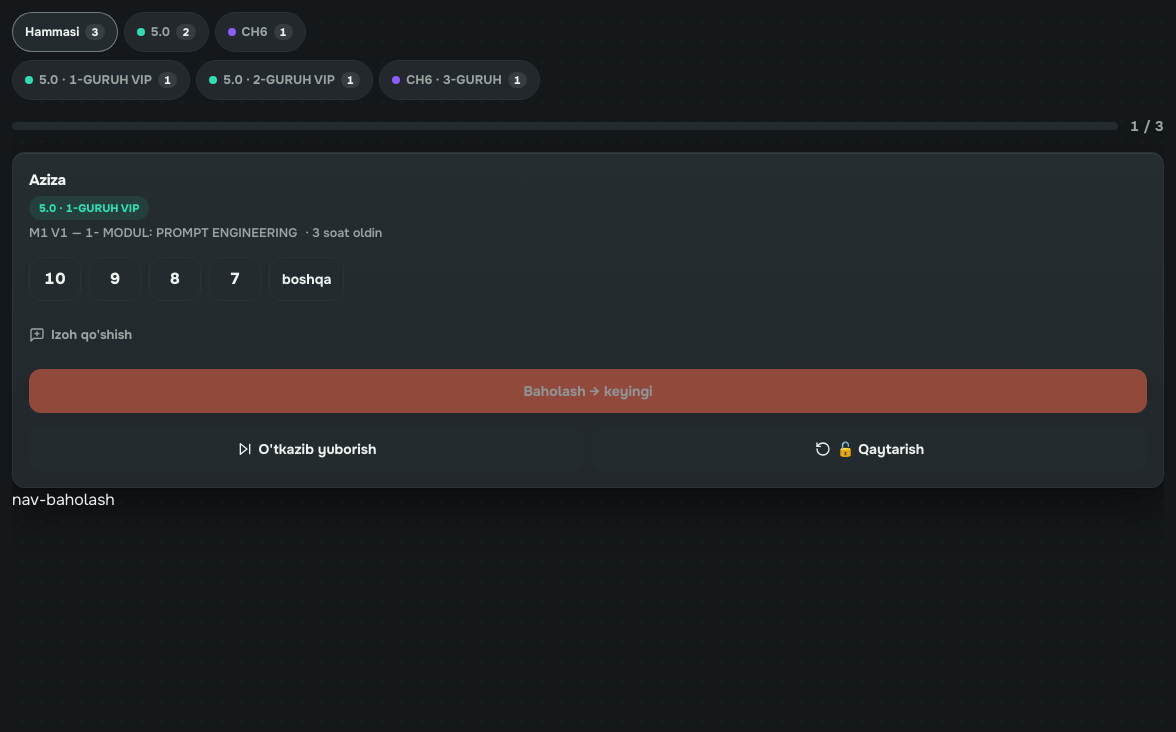
TeacherGrade course + group filter › 'Ortga' tapped while the NEXT grade is being written re-opens the right card and keeps its score (TUI-6)
Check: the text "Aziza" is shown, box x1=29 y1=170 x2=66 y2=190
Click the button "7" at (235, 279), box x1=209 y1=257 x2=261 y2=301
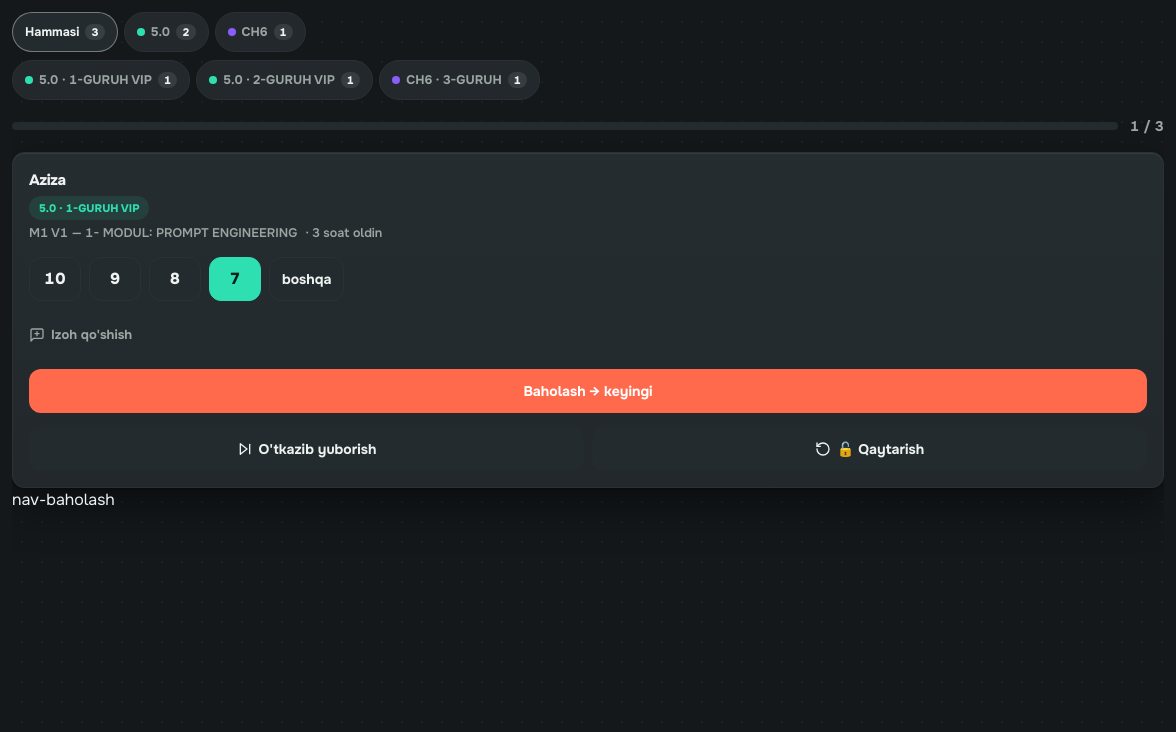
Click the button "Baholash → keyingi" at (588, 391), box x1=29 y1=369 x2=1147 y2=413
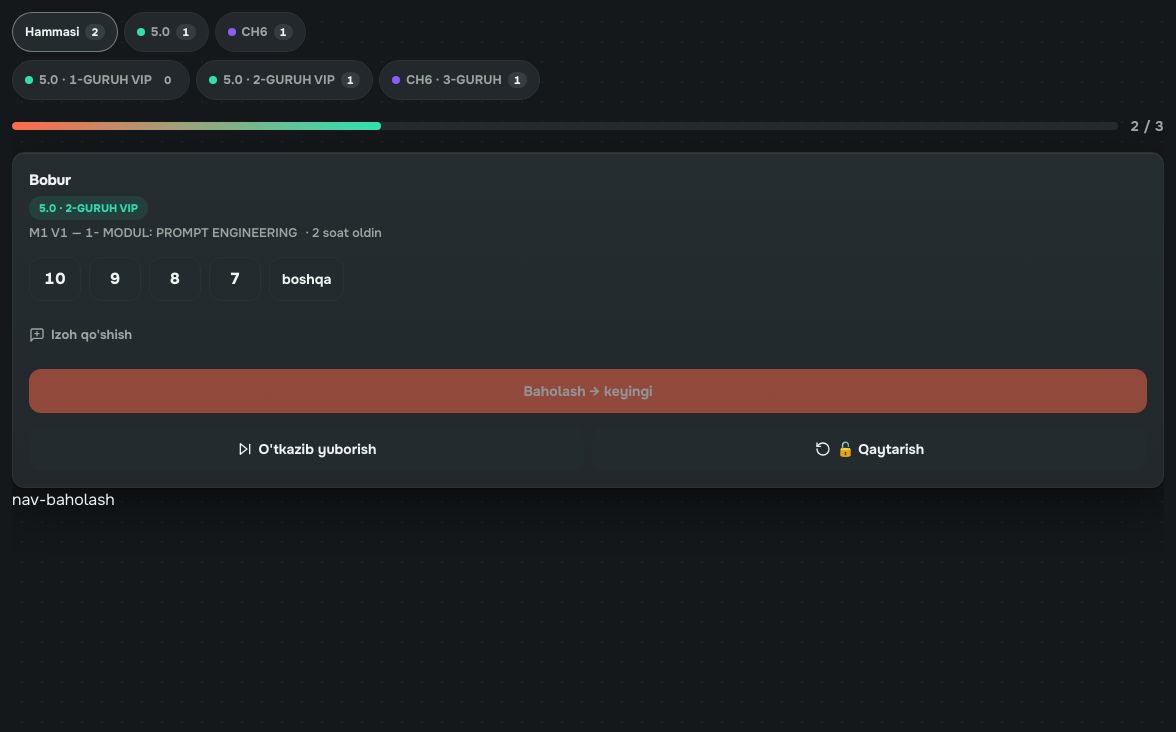
Check: the text "Bobur" is shown, box x1=29 y1=170 x2=71 y2=190
Click the button "10" at (55, 279), box x1=29 y1=257 x2=81 y2=301
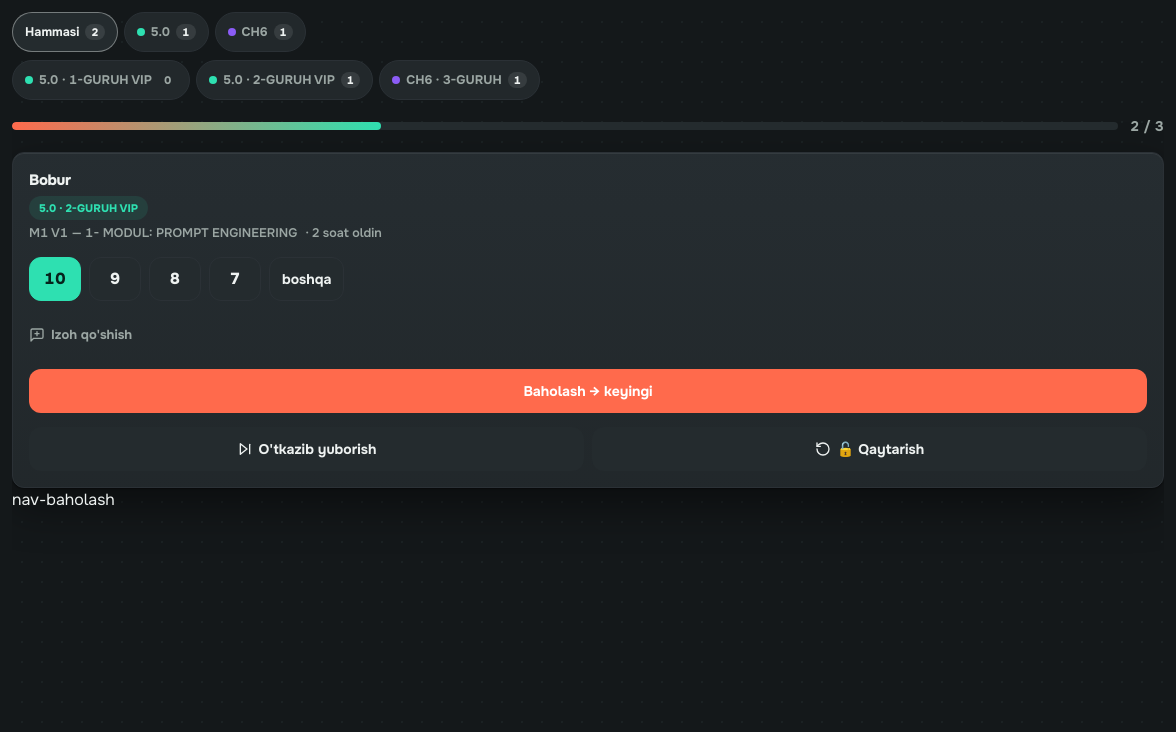
Click the button "Baholash → keyingi" at (588, 391), box x1=29 y1=369 x2=1147 y2=413
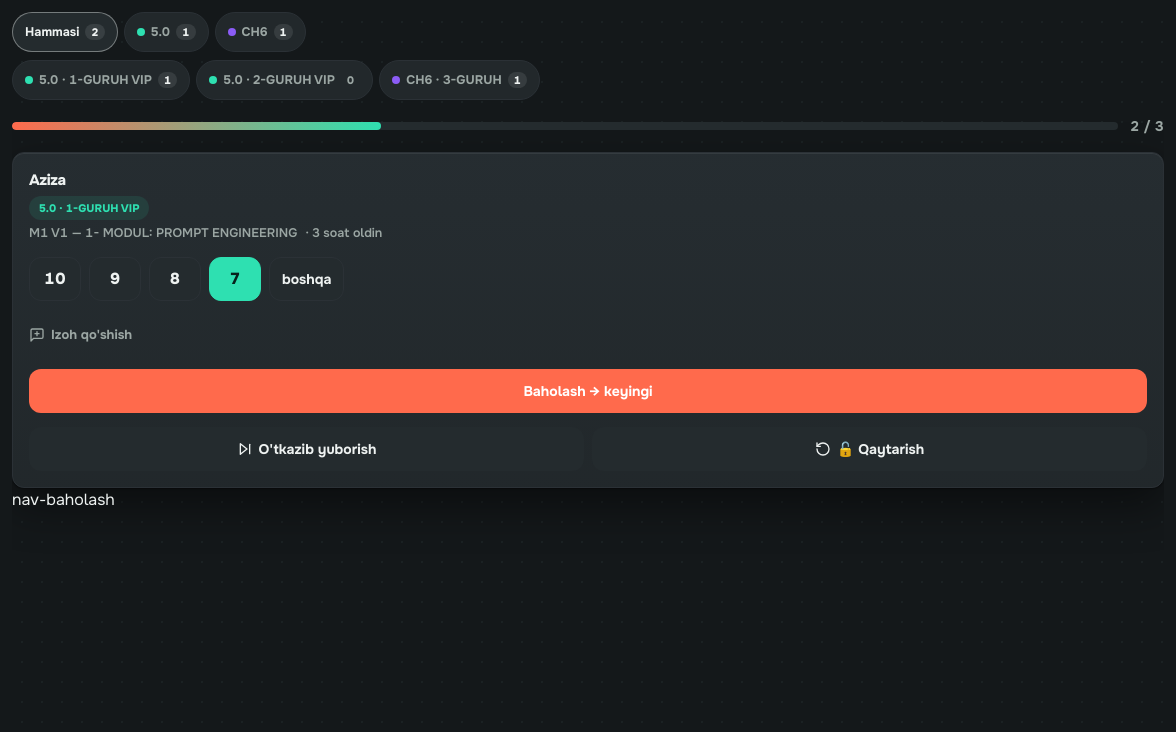
Check: the text "Aziza" is shown, box x1=29 y1=170 x2=66 y2=190
Check: the text "Bobur" is gone
